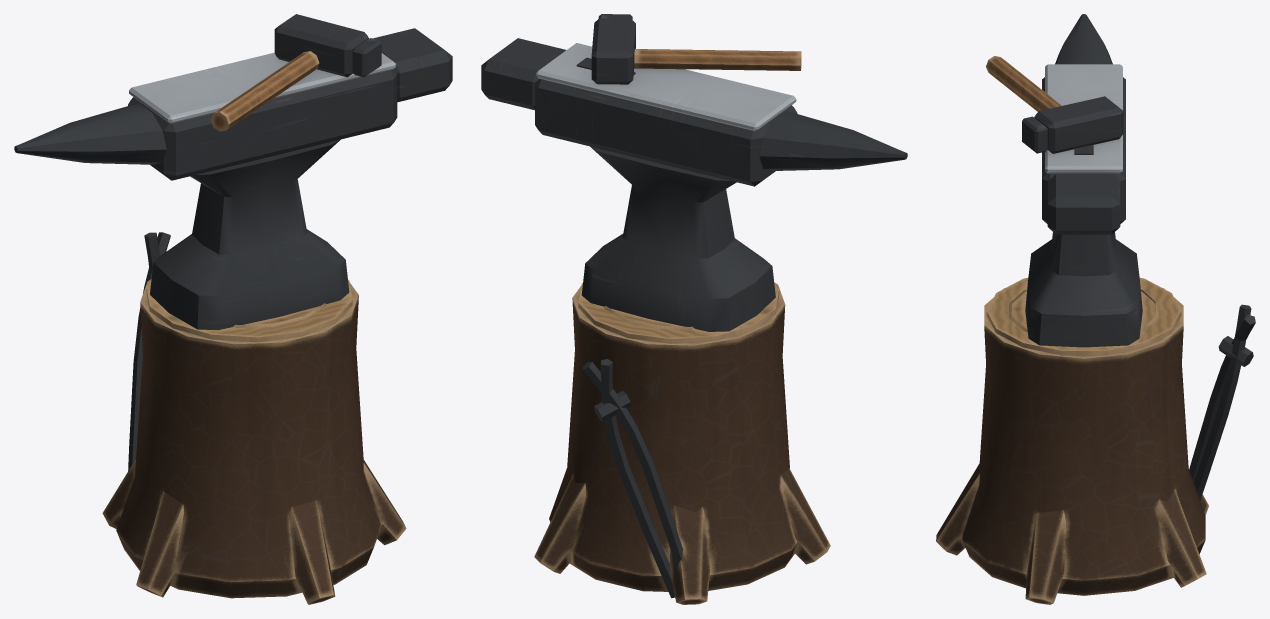
Rendered from yunque_forja.fbx.
3 views of the same model, side by side, from view 1: azimuth 30°, elevation 25°; view 2: azimuth 150°, elevation 25°; view 3: azimuth 270°, elevation 25° (orthographic). The views are drawn at different scales.
Visible parts, largest first — view 1: yunque_forja; view 2: yunque_forja; view 3: yunque_forja.
Part boxes in pixels (x1=…): yunque_forja: x1=14, y1=14, x2=452, y2=604; yunque_forja: x1=481, y1=14, x2=907, y2=604; yunque_forja: x1=936, y1=14, x2=1255, y2=604.
Bounding box in the file's own units: 1.82 × 2.1 × 1.28.
Materials: 1 (1 with a texture image).
